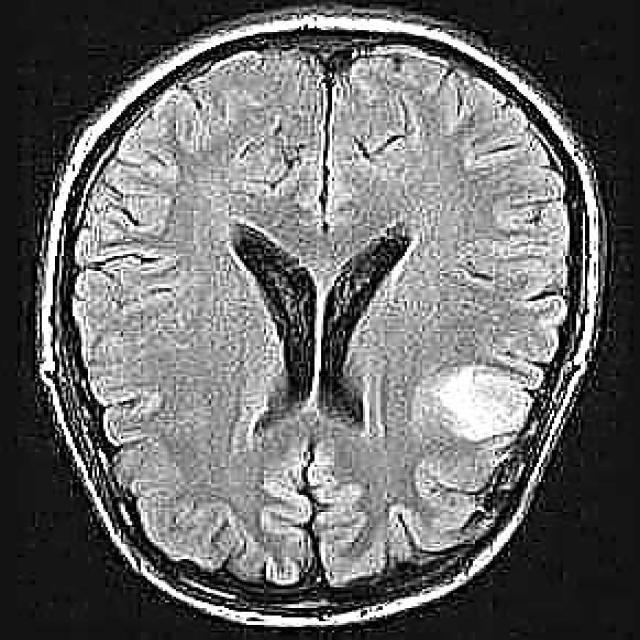Tumor-Cell: (406, 345, 544, 459)
